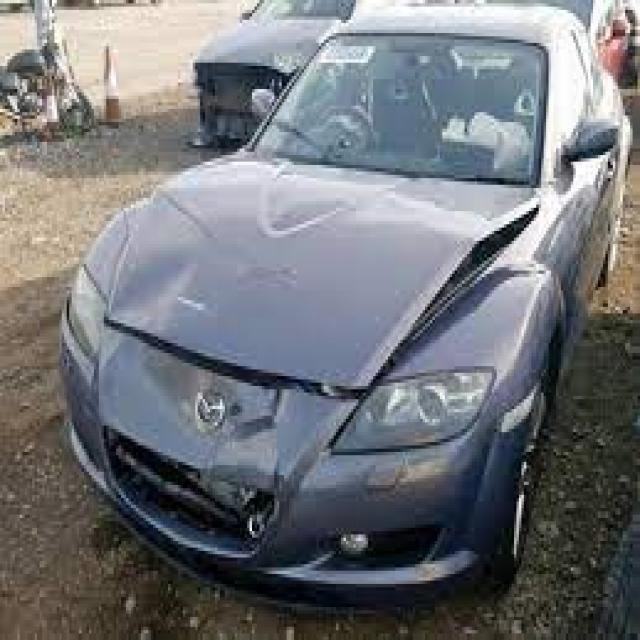minor: (62, 327, 546, 514)
